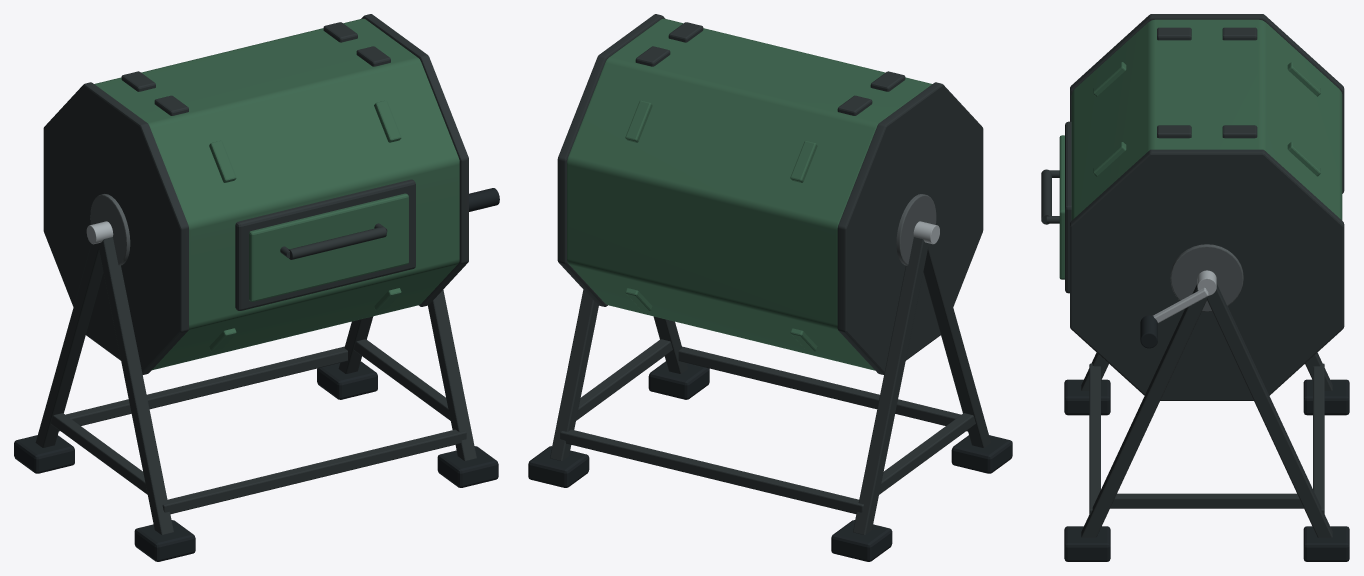
Rendered from city-compost-tumbler.glb.
The picture shows the model from 3 angles, left to right: view 1: azimuth 30°, elevation 25°; view 2: azimuth 150°, elevation 25°; view 3: azimuth 270°, elevation 25°; orthographic projection.
Parts seen in each view (by area): view 1: Assembly | Forest green compost polymer, Assembly | Graphite machine powder coat, Assembly | Non-marking rubber, Assembly | Rough cast iron; view 2: Assembly | Forest green compost polymer, Assembly | Graphite machine powder coat, Assembly | Non-marking rubber, Assembly | Rough cast iron; view 3: Assembly | Graphite machine powder coat, Assembly | Forest green compost polymer, Assembly | Non-marking rubber, Assembly | Rough cast iron, Assembly | Zinc plated steel.
Boxes of the visible parts, bbox=[...] form: Assembly | Forest green compost polymer: bbox=[94, 18, 459, 370]; Assembly | Graphite machine powder coat: bbox=[35, 14, 476, 534]; Assembly | Non-marking rubber: bbox=[14, 188, 499, 561]; Assembly | Rough cast iron: bbox=[90, 194, 130, 265]; Assembly | Forest green compost polymer: bbox=[567, 18, 932, 370]; Assembly | Graphite machine powder coat: bbox=[550, 14, 990, 534]; Assembly | Non-marking rubber: bbox=[528, 361, 1012, 561]; Assembly | Rough cast iron: bbox=[896, 194, 936, 265]; Assembly | Graphite machine powder coat: bbox=[1041, 14, 1344, 537]; Assembly | Forest green compost polymer: bbox=[1059, 19, 1342, 279]; Assembly | Non-marking rubber: bbox=[1064, 315, 1349, 561]; Assembly | Rough cast iron: bbox=[1170, 244, 1243, 311]; Assembly | Zinc plated steel: bbox=[1153, 270, 1216, 322].
Bounding box in the file's own units: 1.13 × 1.14 × 0.8.
